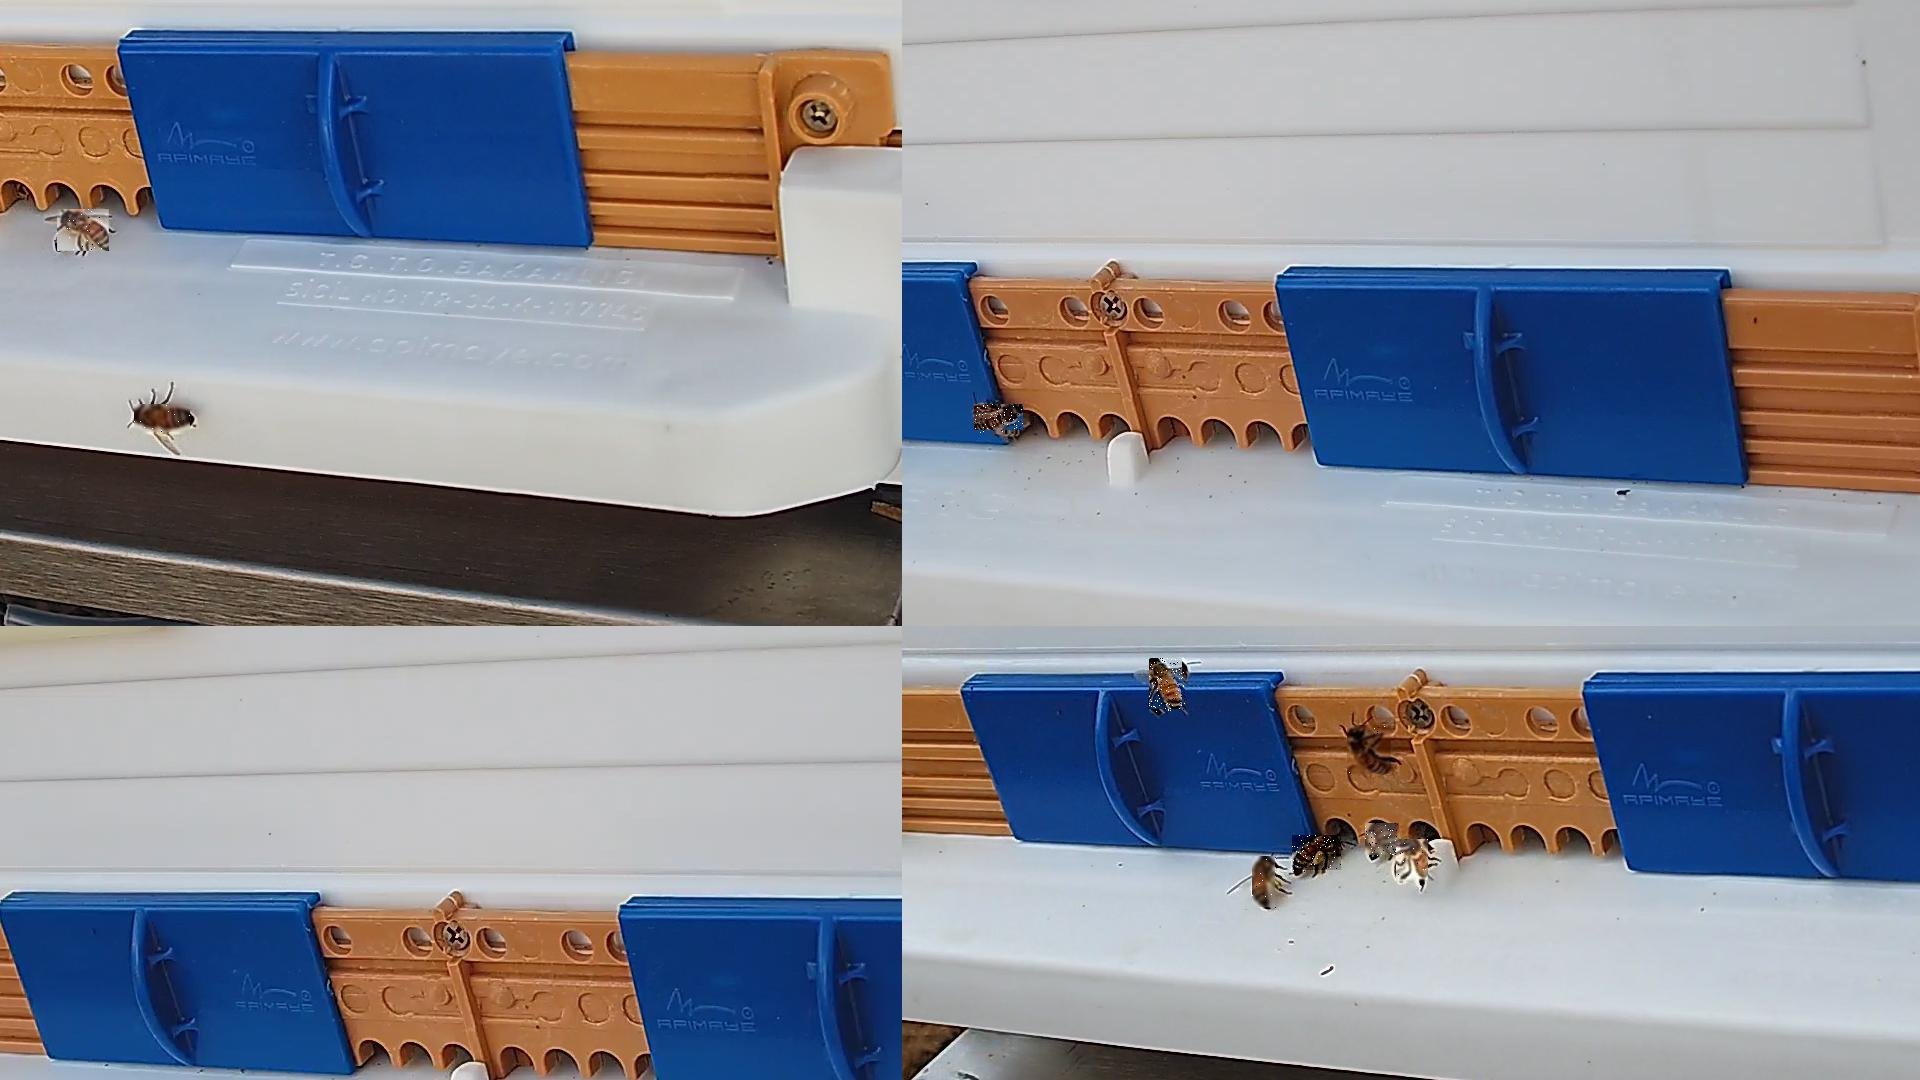bee: (1348, 725, 1393, 775), (57, 210, 109, 252), (1150, 658, 1187, 713), (135, 405, 191, 435), (975, 405, 1025, 435), (1396, 840, 1429, 884), (1253, 857, 1278, 910)
pollenbee: (1292, 836, 1342, 874), (1365, 824, 1400, 858)
